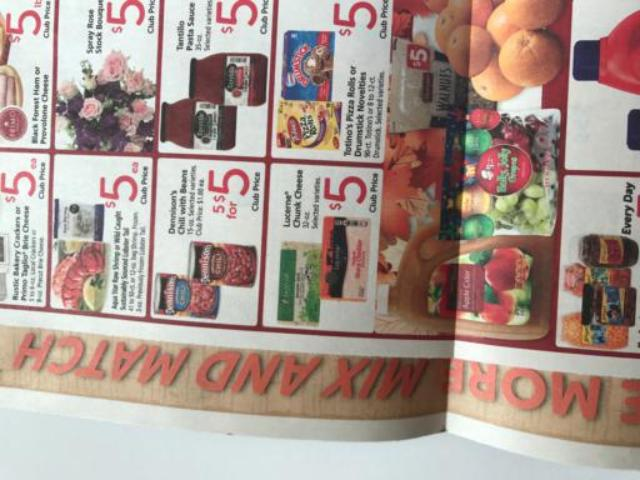cardboard paper: (0, 0, 640, 469)
